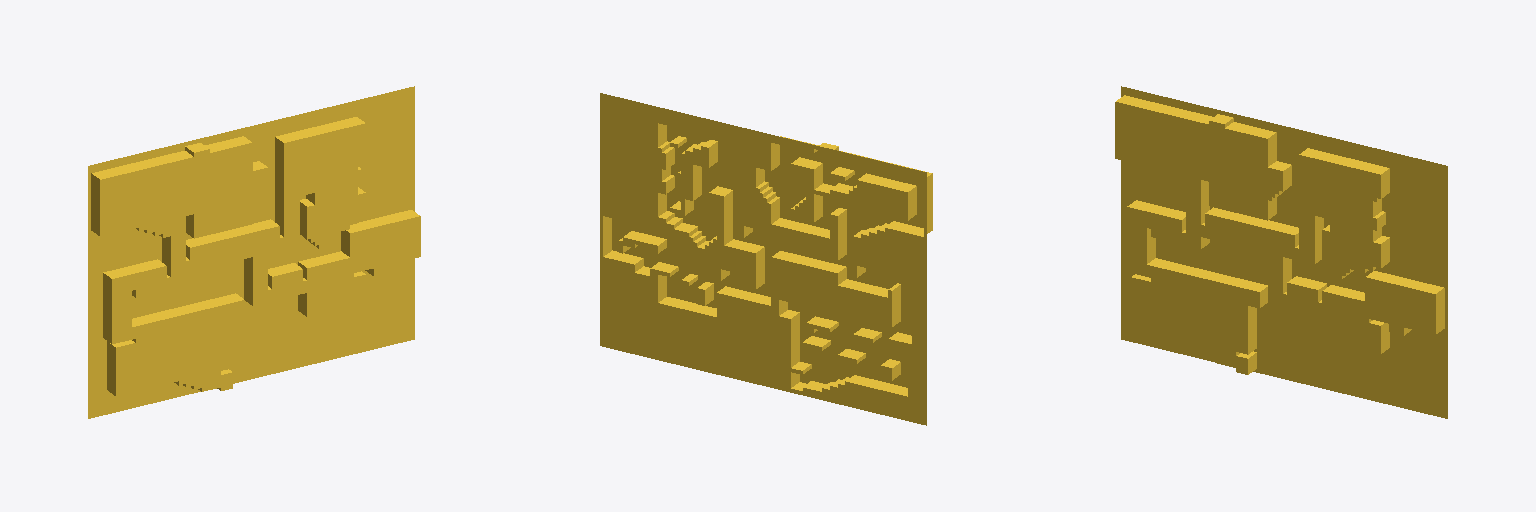
The model's file is DungeonWorldMap.obj.
The picture shows the model from 3 angles: view 1: azimuth 30°, elevation 25°; view 2: azimuth 150°, elevation 25°; view 3: azimuth 330°, elevation 25°; orthographic projection.
Visible parts, largest first — view 1: DungeonWorldMap; view 2: DungeonWorldMap; view 3: DungeonWorldMap.
Boxes of the visible parts, box(x1,y1,x2,y2) form: DungeonWorldMap: box(88, 86, 420, 418); DungeonWorldMap: box(600, 93, 932, 425); DungeonWorldMap: box(1115, 86, 1447, 418).
Size of the model in its own units: 84 by 62 by 4.